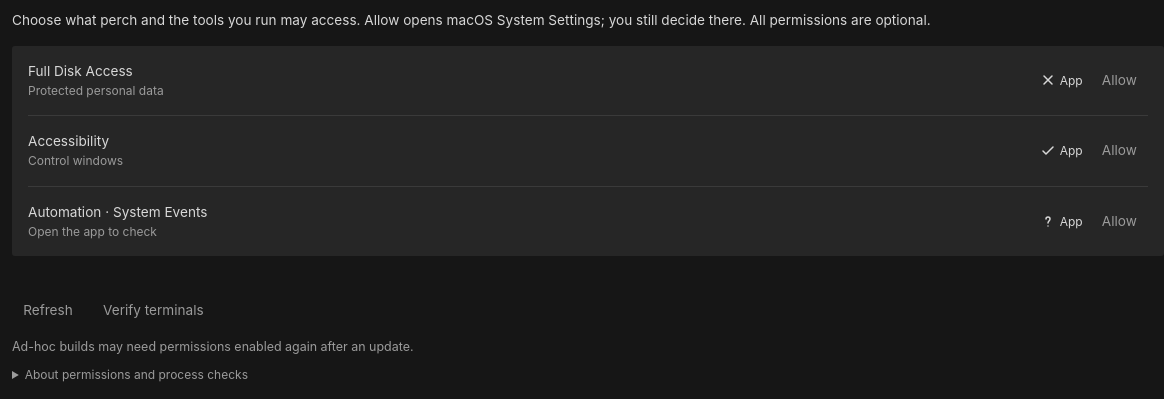
Test: surfaces a busy native request and releases its loading state
Click the button "Allow" in the row of "Protected personal data" at (1119, 80), box [1091, 58, 1148, 102]
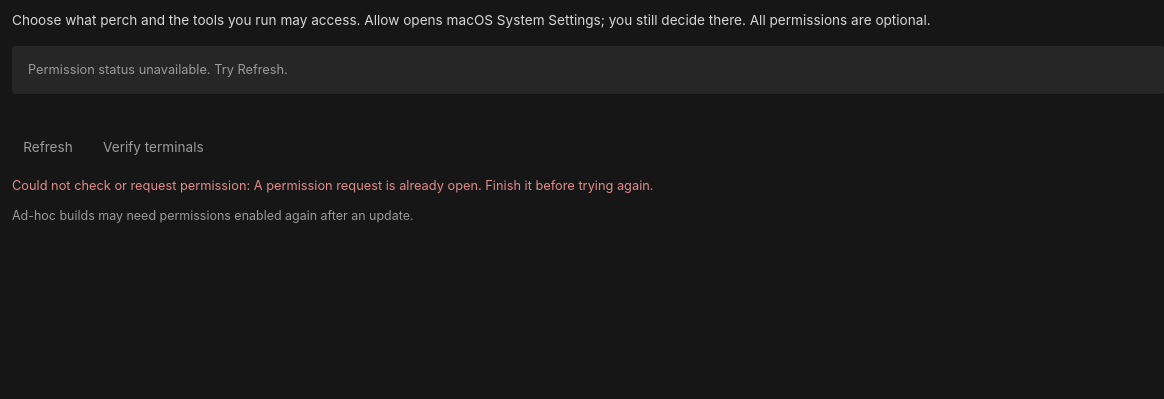
Check: the button "Refresh" is enabled, box [12, 126, 84, 170]
Check: the message that starts with "Could not check or request permission:" shows "already open", box [254, 178, 654, 193]
